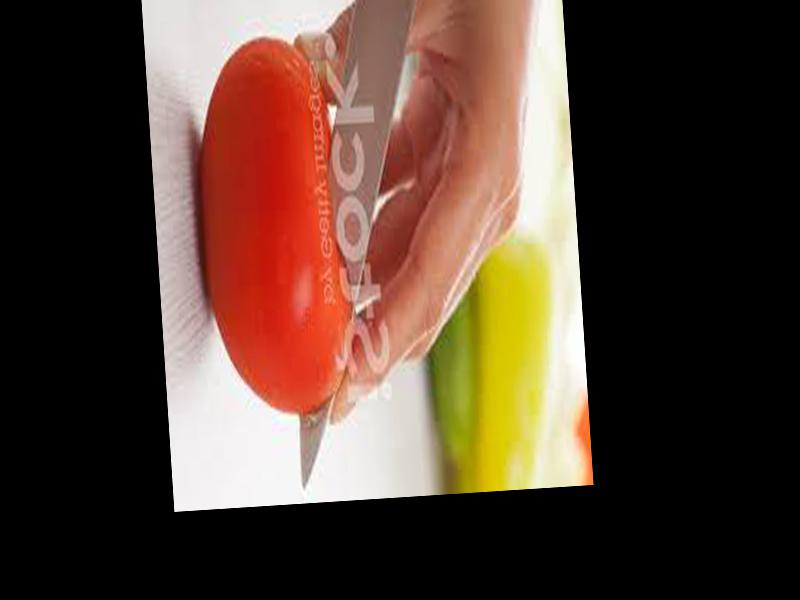Tomato: (186, 29, 357, 420)
